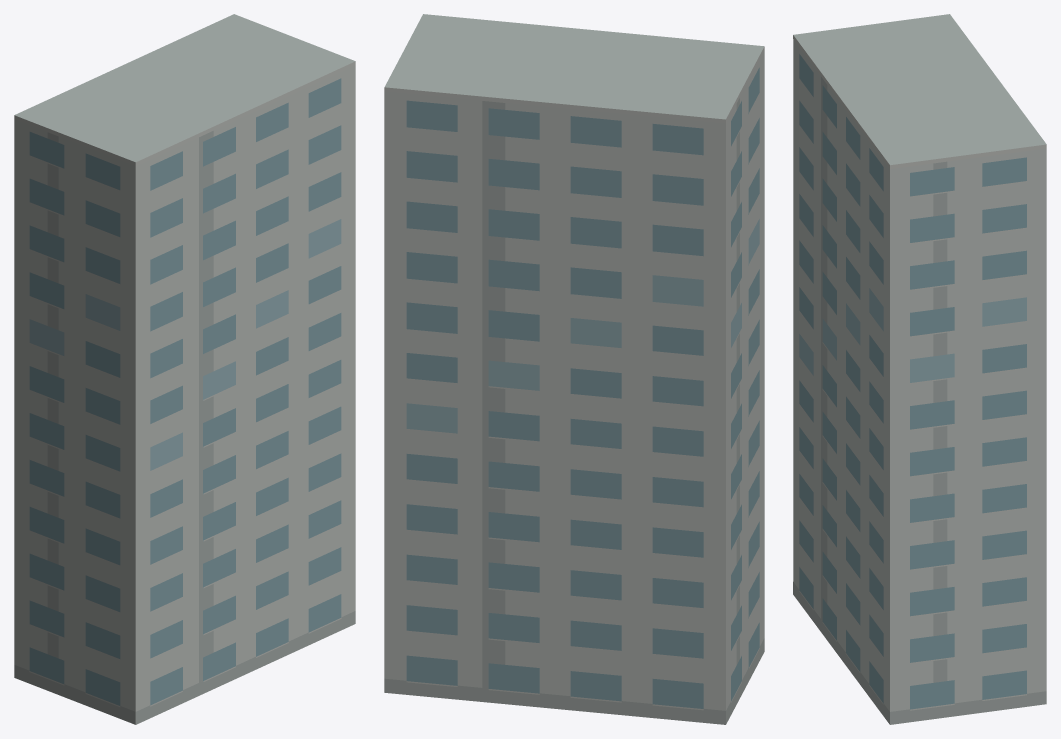
Rendered from residential-21763f40-9b6e-4984-8f41-98bc0e8d8cb9.glb.
3 views of the same model, side by side, from view 1: azimuth 30°, elevation 25°; view 2: azimuth 150°, elevation 25°; view 3: azimuth 270°, elevation 25° (orthographic). The views are drawn at different scales.
Visible parts, largest first — view 1: residential-21763f40-9b6e-4984-8f41-98bc0e8d8cb9.tmp; view 2: residential-21763f40-9b6e-4984-8f41-98bc0e8d8cb9.tmp; view 3: residential-21763f40-9b6e-4984-8f41-98bc0e8d8cb9.tmp.
Part boxes in pixels (left/top/right/bottom): residential-21763f40-9b6e-4984-8f41-98bc0e8d8cb9.tmp: left=14, top=14, right=355, bottom=724; residential-21763f40-9b6e-4984-8f41-98bc0e8d8cb9.tmp: left=384, top=14, right=764, bottom=724; residential-21763f40-9b6e-4984-8f41-98bc0e8d8cb9.tmp: left=793, top=14, right=1046, bottom=724.
Size of the model in its own units: 19.71 by 34 by 13.97.
